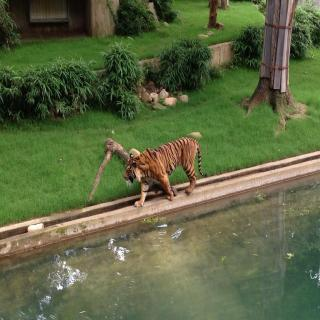Tiger: (122, 135, 208, 208)
